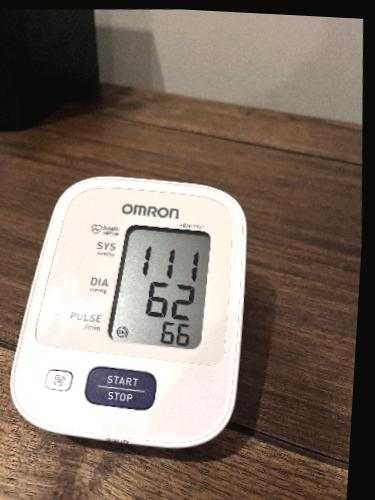bpm: (105, 220, 213, 351)
